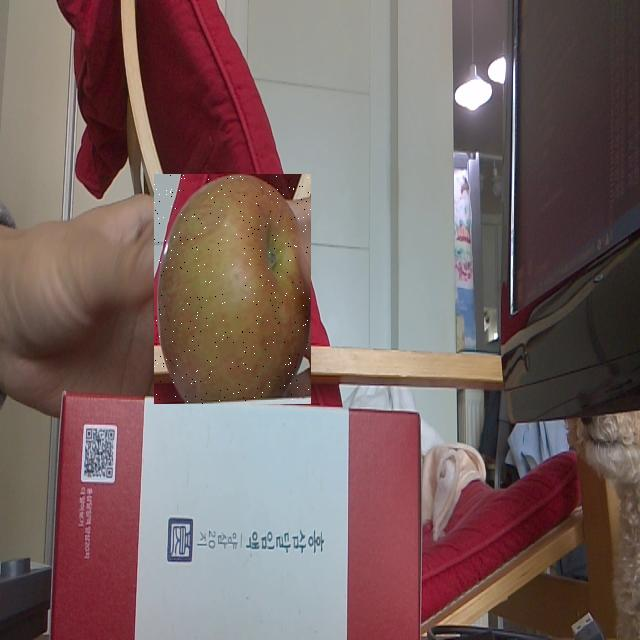apple: (154, 174, 311, 404)
